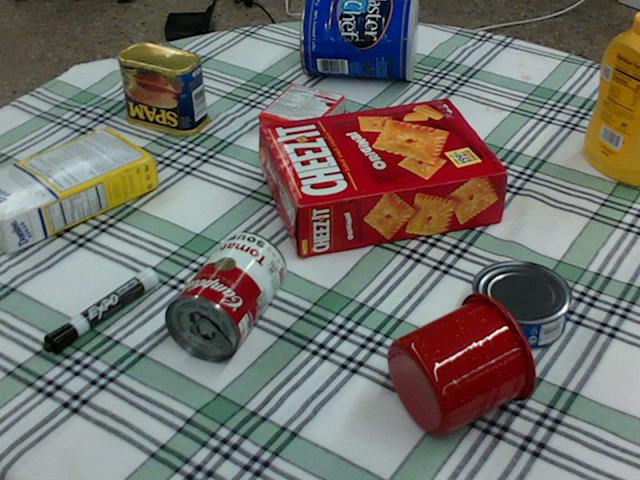cracker_box: (262, 98, 506, 256)
gelatin_box: (257, 80, 344, 147)
large_marker: (40, 267, 156, 354)
master_chef_can: (300, 0, 415, 79)
mug: (387, 289, 538, 436)
mustard_bottle: (582, 11, 639, 185)
potted_meat_can: (118, 42, 209, 135)
sugar_box: (0, 128, 155, 252)
tomato_soup_can: (163, 229, 286, 360)
tuna_fish_can: (471, 259, 573, 349)
